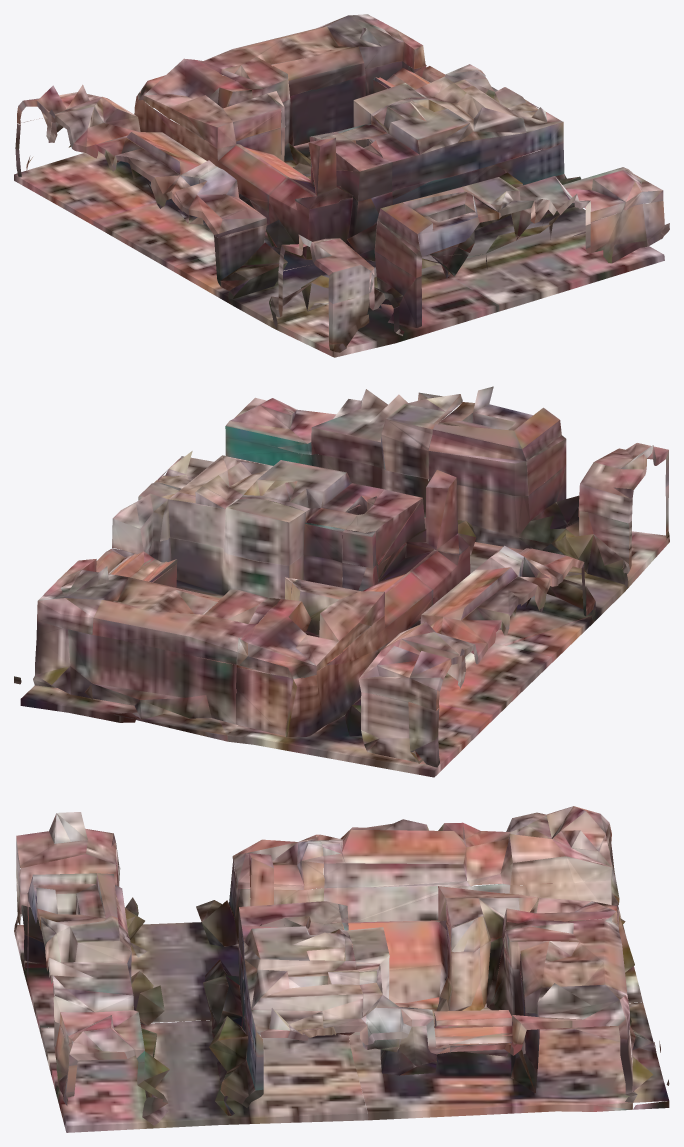
The picture shows the model from 3 angles, top to bottom: view 1: azimuth 30°, elevation 25°; view 2: azimuth 150°, elevation 25°; view 3: azimuth 270°, elevation 25°; orthographic projection. The views are drawn at different scales.
Parts seen in each view (by area): view 1: Mesh_0; view 2: Mesh_0; view 3: Mesh_0.
Part boxes in pixels (left/top/right/bottom): Mesh_0: left=14, top=14, right=669, bottom=357; Mesh_0: left=14, top=386, right=669, bottom=777; Mesh_0: left=14, top=806, right=669, bottom=1132.
Size of the model in its own units: 135 by 39.8 by 165.
1 material, 1 textured.
